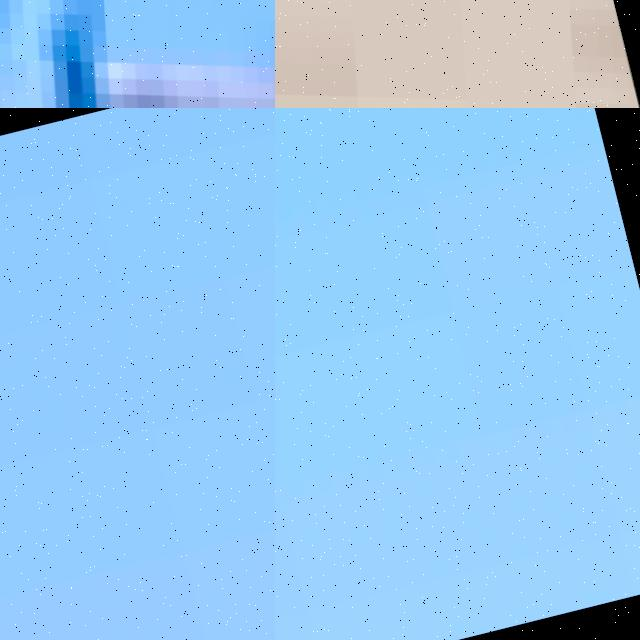drone: (275, 0, 640, 108), (0, 0, 275, 108)
